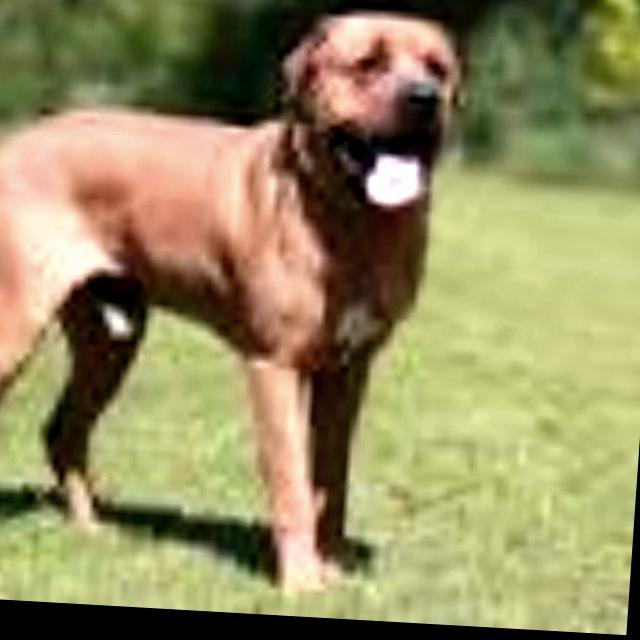dog: (246, 0, 481, 231)
